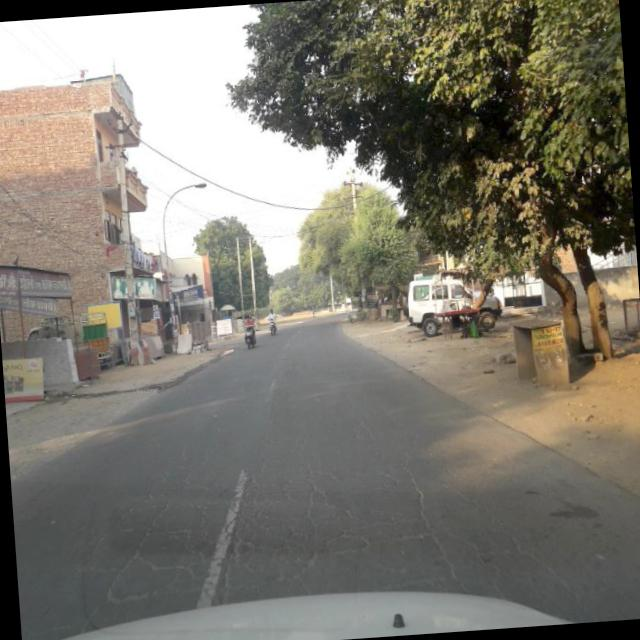crack: (81, 418, 518, 614)
